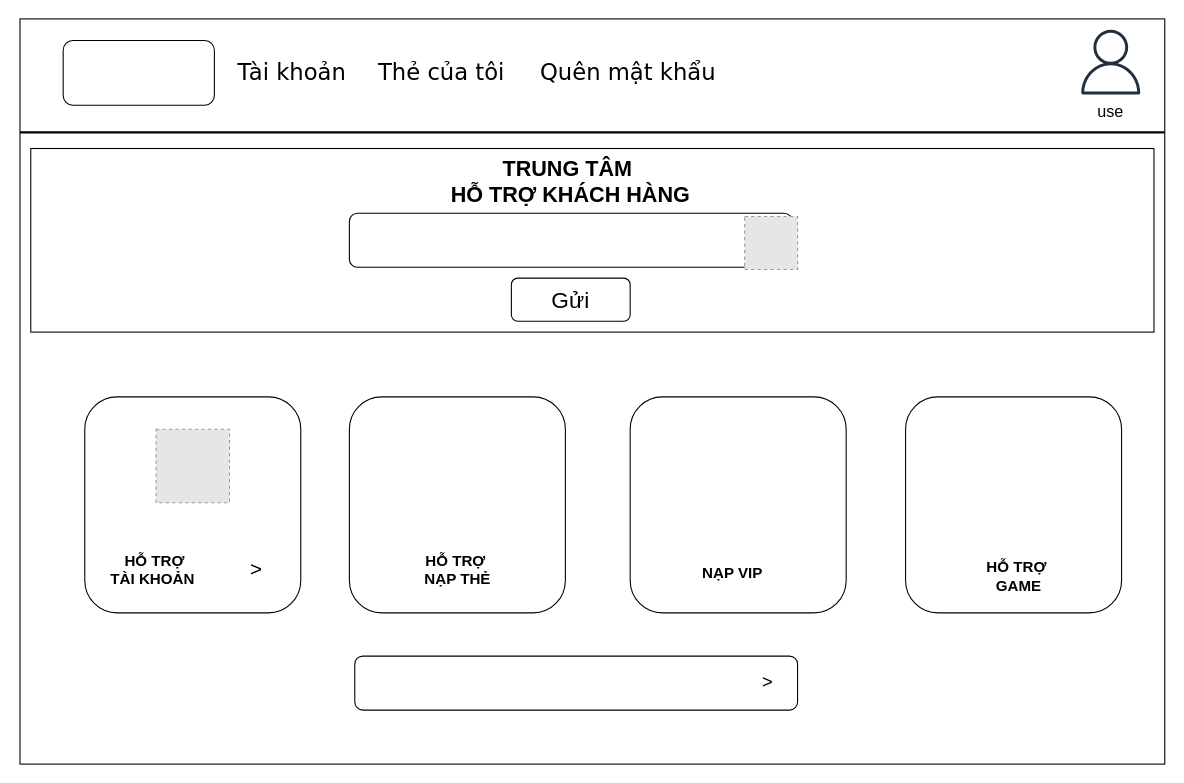
Some shapes in this 1184 by 783 pixel diagram are drawn without their labels. Grey dashed boxes stand in for pictures. Each missing label, with the box of its shape:
LOGO: (62, 39, 214, 105)
THEO DÕI PHIẾU HỖ TRỢ: (354, 655, 798, 710)
